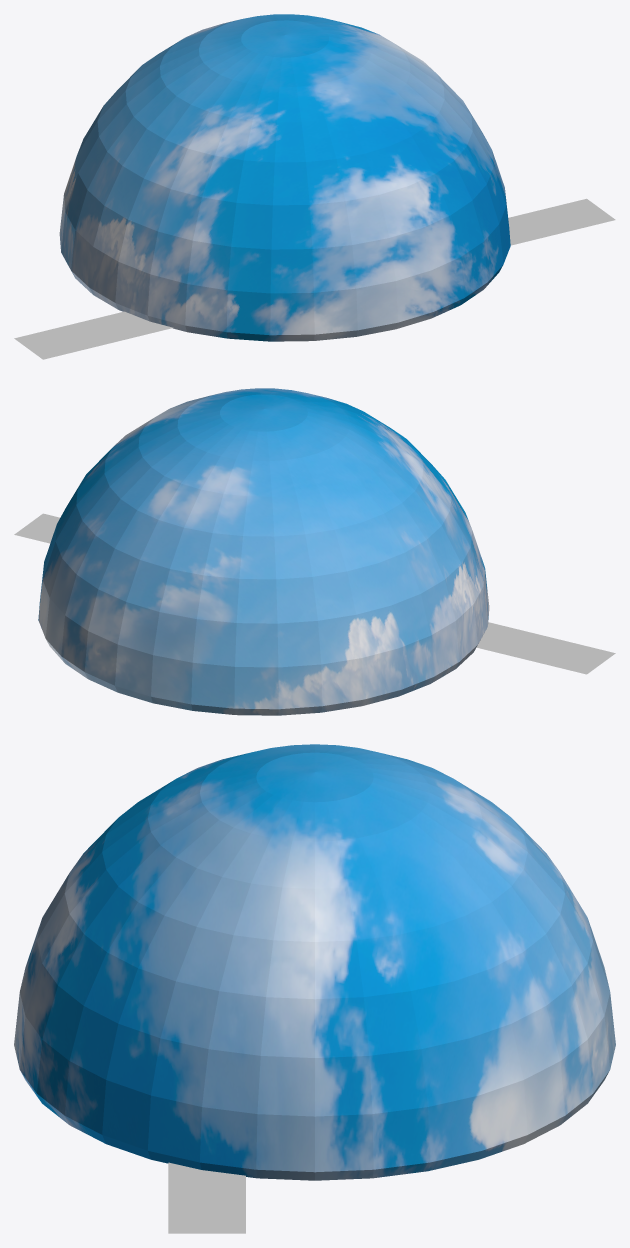
The model's file is Restaurant_and_Environment.fbx.
The picture shows the model from 3 angles, top to bottom: view 1: azimuth 30°, elevation 25°; view 2: azimuth 150°, elevation 25°; view 3: azimuth 270°, elevation 25°; orthographic projection. The views are drawn at different scales.
Parts seen in each view (by area): view 1: Sphere, Plane.002; view 2: Sphere, Plane.002; view 3: Sphere, Plane.002.
Boxes of the visible parts, x1,y1,x2,y2 form: Sphere: (59, 14, 510, 341); Plane.002: (14, 198, 615, 359); Sphere: (38, 388, 489, 715); Plane.002: (14, 513, 615, 674); Sphere: (14, 744, 615, 1180); Plane.002: (168, 1162, 245, 1233).
Size of the model in its own units: 7653 by 2769 by 5230.
